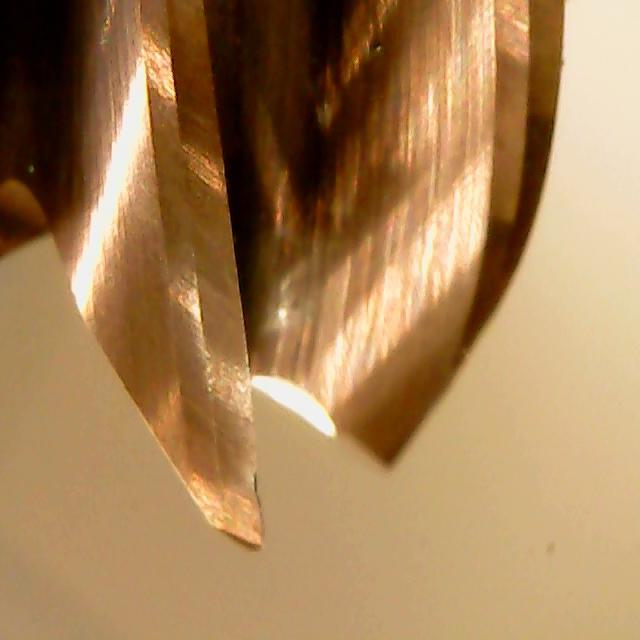Tool-wear-class-1: (164, 375, 279, 555)
